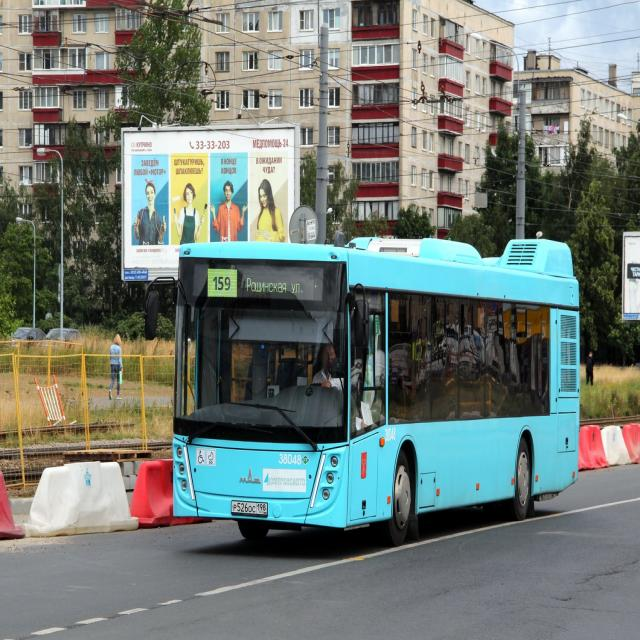number-of-bus: (211, 274, 235, 294)
